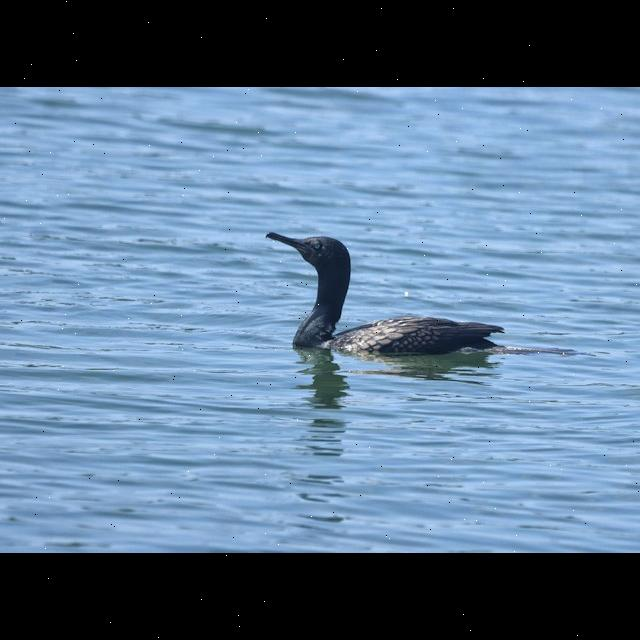cormorant: (257, 222, 603, 362)
